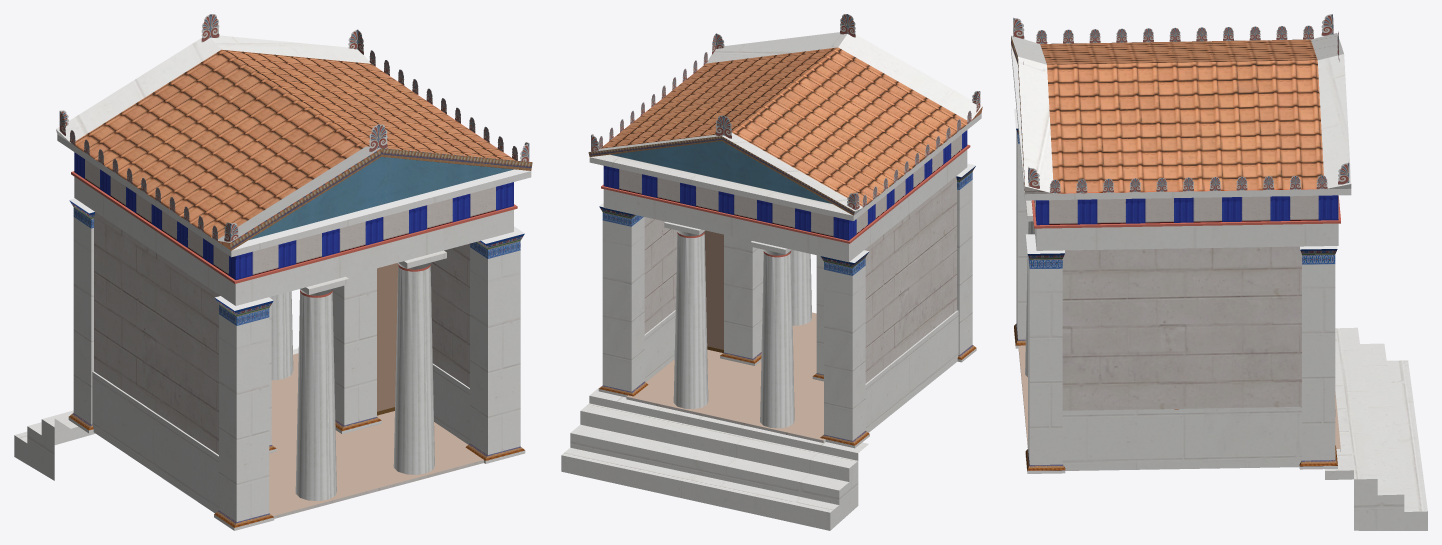
The model's file is propylon.fbx.
3 views of the same model, side by side, from view 1: azimuth 30°, elevation 25°; view 2: azimuth 150°, elevation 25°; view 3: azimuth 270°, elevation 25° (orthographic). The views are drawn at different scales.
Visible parts, largest first — view 1: Model; view 2: Model; view 3: Model.
Part boxes in pixels (left/top/right/bottom): Model: left=14, top=14, right=532, bottom=530; Model: left=561, top=14, right=982, bottom=530; Model: left=1011, top=14, right=1427, bottom=530.
Size of the model in its own units: 6750 by 8512 by 7456.
